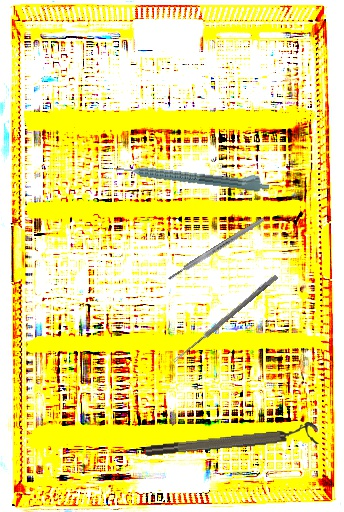Fixation Ring: (143, 420, 320, 460)
Handpiece: (115, 156, 271, 194)
Scalpel Handle: (166, 216, 266, 282)
Surgical Spoon: (171, 273, 279, 365)
